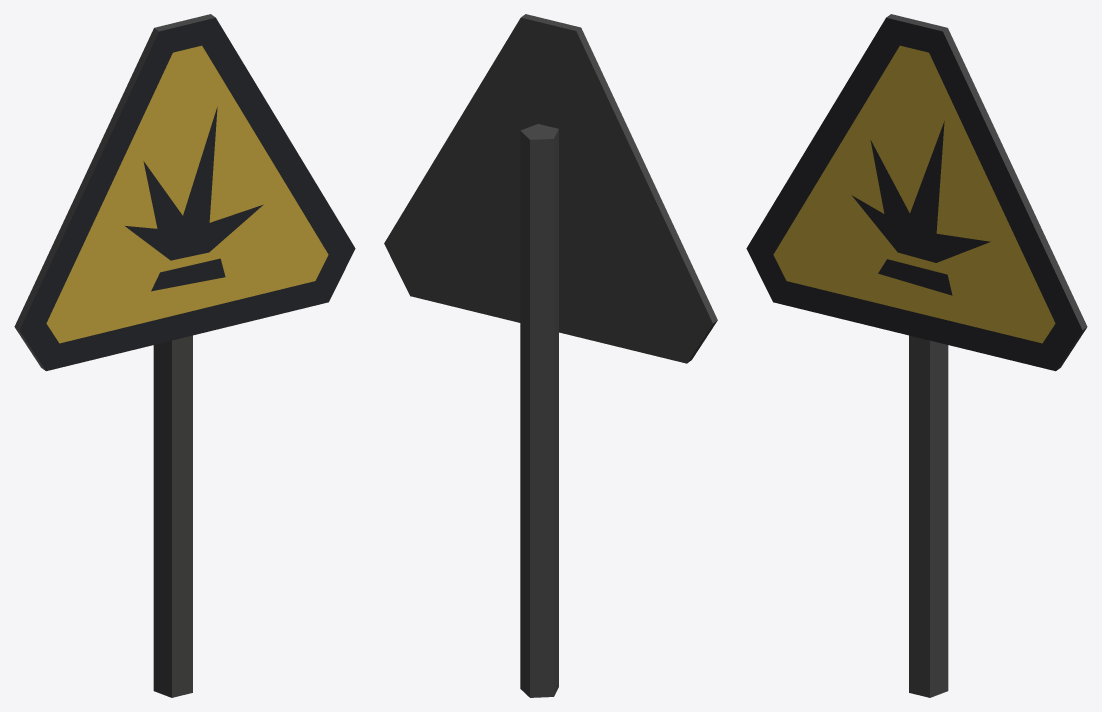
The model's file is LPWarPack_WarningSign_Mine.fbx.
The picture shows the model from 3 angles, left to right: view 1: azimuth 30°, elevation 25°; view 2: azimuth 150°, elevation 25°; view 3: azimuth 330°, elevation 25°; orthographic projection. The views are drawn at different scales.
Parts seen in each view (by area): view 1: WarningSign_Mine; view 2: WarningSign_Mine; view 3: WarningSign_Mine.
Boxes of the visible parts, x1=… form: WarningSign_Mine: x1=14, y1=14, x2=355, y2=697; WarningSign_Mine: x1=384, y1=14, x2=717, y2=697; WarningSign_Mine: x1=746, y1=14, x2=1087, y2=697.
Size of the model in its own units: 76.85 by 147 by 9.46.
